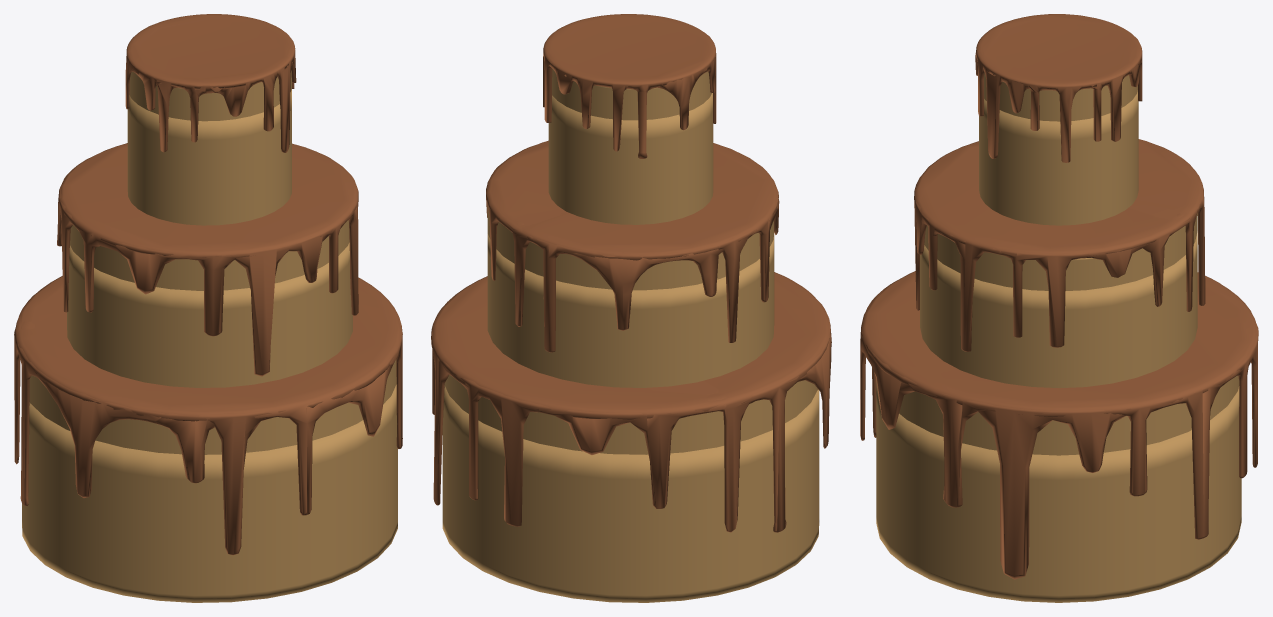
Rendered from 3-tier-caramel-ganache-none.glb.
3 renders of one model, left to right at view 1: azimuth 30°, elevation 25°; view 2: azimuth 150°, elevation 25°; view 3: azimuth 270°, elevation 25°, orthographic.
Parts seen in each view (by area): view 1: Cylinder.022, tHE ICING.005, Cylinder.014, tHE ICING.002, Cylinder.021, tHE ICING.001; view 2: Cylinder.022, tHE ICING.005, Cylinder.014, tHE ICING.002, Cylinder.021, tHE ICING.001; view 3: Cylinder.022, tHE ICING.005, Cylinder.014, tHE ICING.002, Cylinder.021, tHE ICING.001.
Part boxes in pixels (left/top/right/bottom): Cylinder.022: left=22, top=359, right=397, bottom=602; tHE ICING.005: left=14, top=276, right=402, bottom=555; Cylinder.014: left=67, top=220, right=352, bottom=387; tHE ICING.002: left=57, top=143, right=358, bottom=376; Cylinder.021: left=127, top=70, right=291, bottom=225; tHE ICING.001: left=125, top=14, right=296, bottom=152; Cylinder.022: left=442, top=375, right=819, bottom=602; tHE ICING.005: left=431, top=272, right=831, bottom=532; Cylinder.014: left=487, top=205, right=774, bottom=387; tHE ICING.002: left=486, top=140, right=779, bottom=352; Cylinder.021: left=548, top=69, right=713, bottom=224; tHE ICING.001: left=543, top=14, right=716, bottom=158; Cylinder.022: left=876, top=376, right=1241, bottom=602; tHE ICING.005: left=860, top=271, right=1258, bottom=579; Cylinder.014: left=920, top=213, right=1197, bottom=387; tHE ICING.002: left=914, top=139, right=1205, bottom=351; Cylinder.021: left=979, top=72, right=1138, bottom=225; tHE ICING.001: left=975, top=14, right=1142, bottom=162.
Size of the model in its own units: 4.33 by 5.81 by 4.43.
